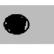correct: (3, 10, 31, 38)
